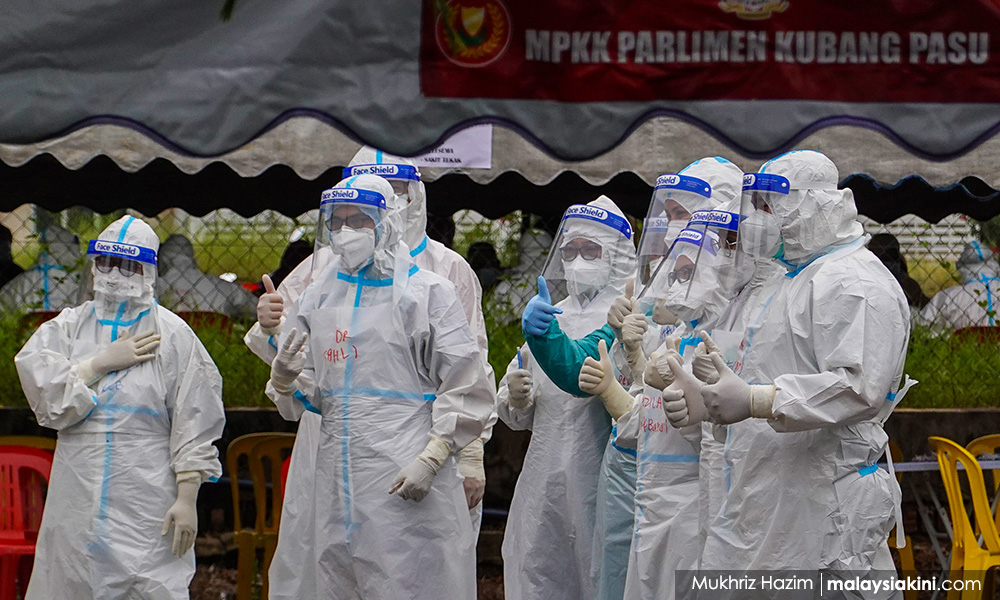Coverall: (705, 143, 912, 600), (280, 173, 500, 600), (10, 207, 228, 600), (502, 189, 647, 600)
Face_Shield: (529, 201, 630, 298), (303, 182, 391, 291), (637, 223, 730, 321), (632, 169, 715, 267), (734, 167, 798, 285), (676, 207, 747, 311), (85, 233, 161, 327), (339, 161, 420, 247)
Gloves: (698, 349, 781, 432), (382, 428, 464, 505), (574, 336, 639, 425), (81, 323, 167, 390), (658, 349, 718, 435), (162, 468, 207, 559), (268, 323, 314, 397), (516, 274, 564, 343), (685, 323, 731, 391), (502, 351, 542, 420), (255, 270, 286, 338), (602, 278, 636, 331), (620, 307, 653, 357)
with_mask: (561, 239, 614, 301), (736, 200, 783, 262), (94, 259, 145, 315), (325, 208, 372, 266)
